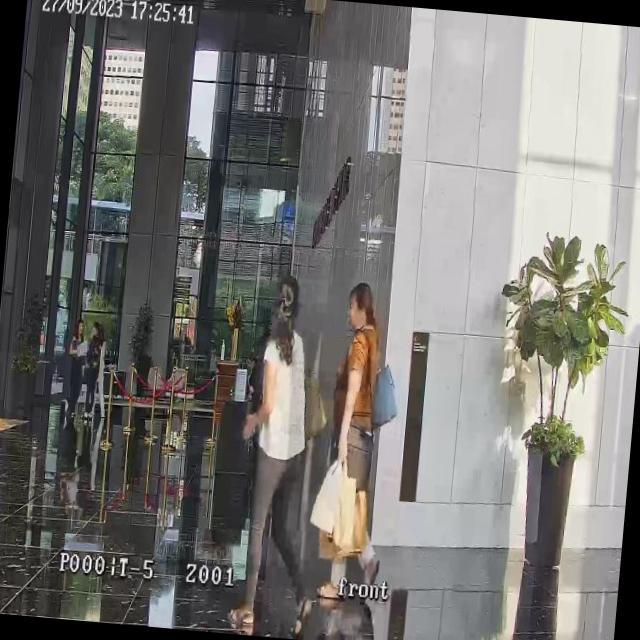person: (224, 268, 334, 636), (304, 279, 404, 598), (64, 317, 88, 419), (82, 320, 102, 422), (92, 326, 114, 417), (244, 351, 258, 394)
